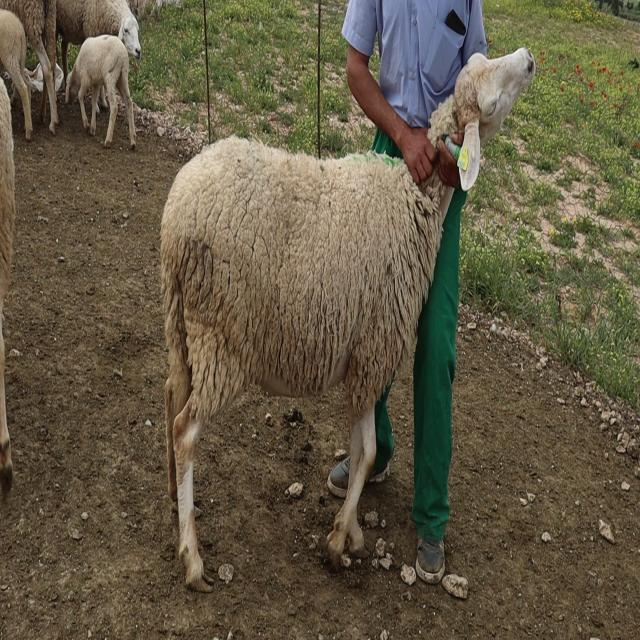Score_5: (161, 137, 454, 592)
